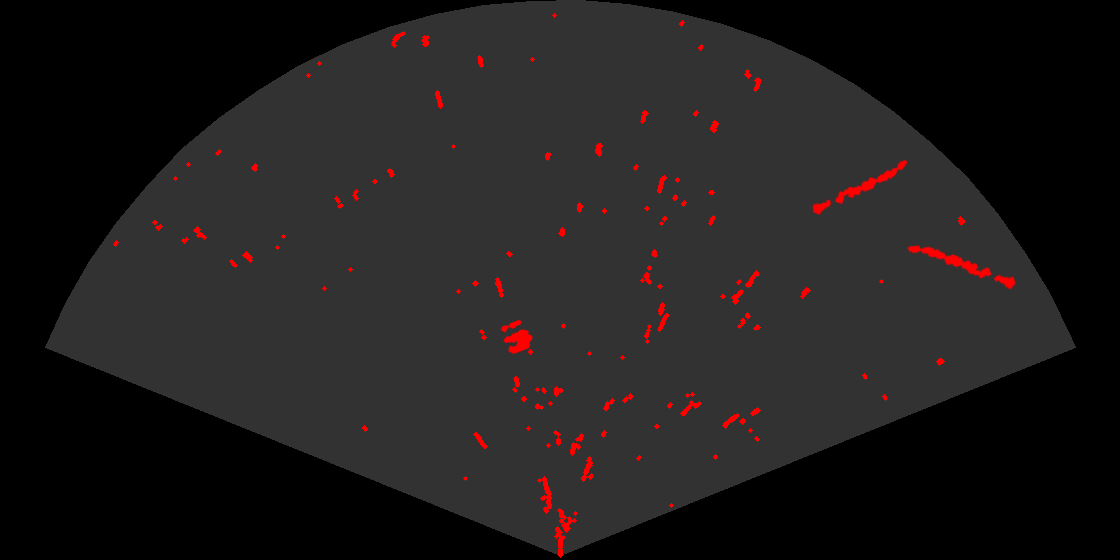ball: (499, 318, 534, 356)
chain: (810, 158, 909, 217), (906, 243, 1018, 291)
